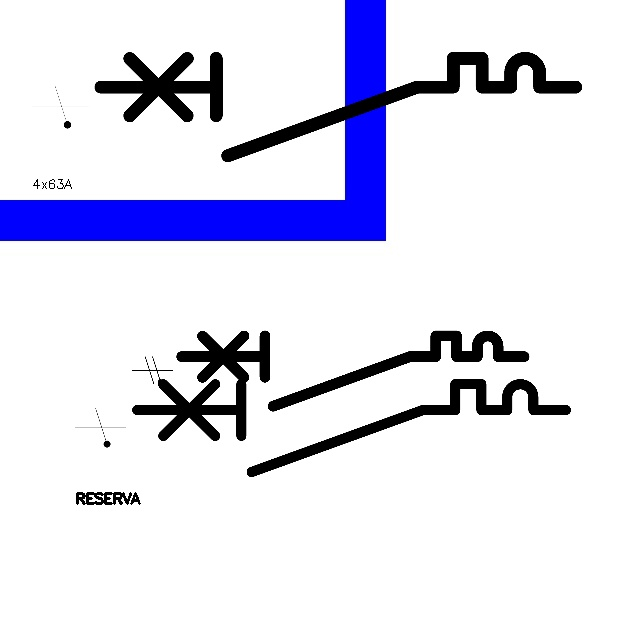interruptor_termomagnetico: (88, 46, 588, 168), (126, 373, 577, 483), (172, 327, 532, 415)
